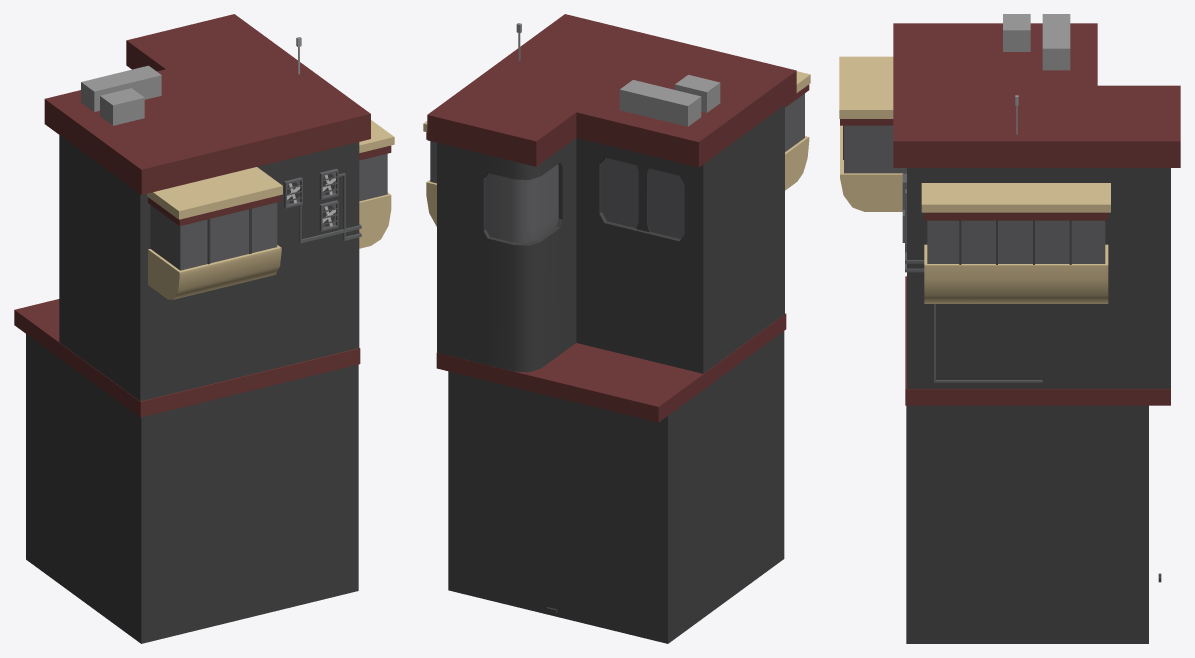
File: NorthWest_House_04.fbx
3 renders of one model, left to right at view 1: azimuth 30°, elevation 25°; view 2: azimuth 150°, elevation 25°; view 3: azimuth 270°, elevation 25°, orthographic. The views are drawn at different scales.
Visible parts, largest first — view 1: NorthWest_House_04; view 2: NorthWest_House_04; view 3: NorthWest_House_04.
Boxes of the visible parts, <box> form: NorthWest_House_04: <box>14,14,394,643</box>; NorthWest_House_04: <box>423,14,810,643</box>; NorthWest_House_04: <box>839,14,1180,643</box>.
Bounding box in the file's own units: 27.64 × 51.19 × 29.11.
